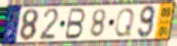2: (39, 8, 61, 42)
8: (18, 8, 40, 42), (89, 8, 107, 39)
9: (136, 4, 156, 40)
B: (63, 7, 87, 40)
Q: (113, 7, 136, 38)
